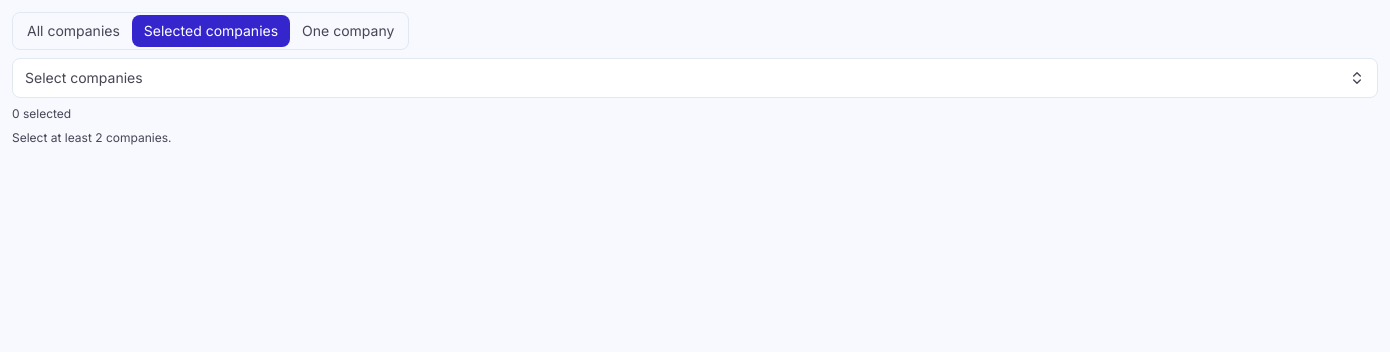
Test case: CompanyTargetSelector › multi-select updates the selected count and prevents duplicates
Click the button "Select companies" at coordinates (84, 78), box [12, 58, 1378, 98]
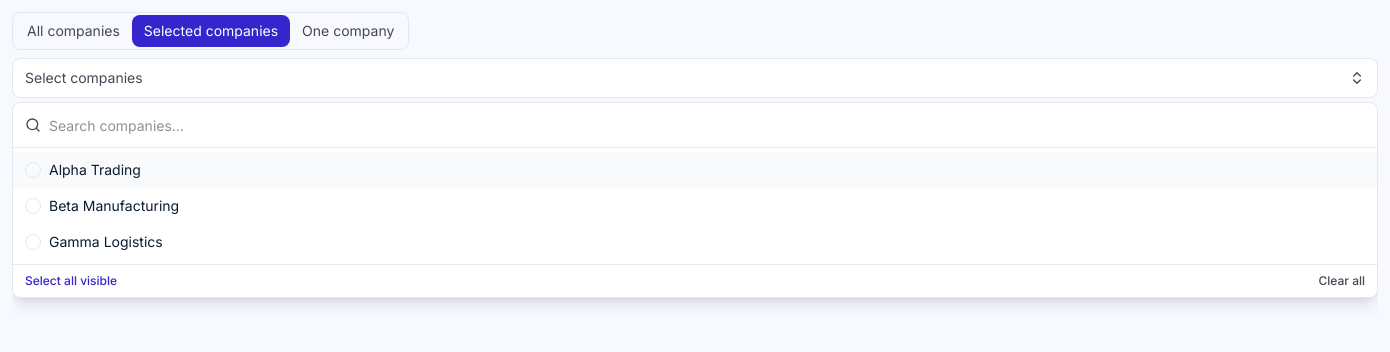
Click the option "Alpha Trading" at coordinates (95, 170), box [13, 152, 1377, 188]
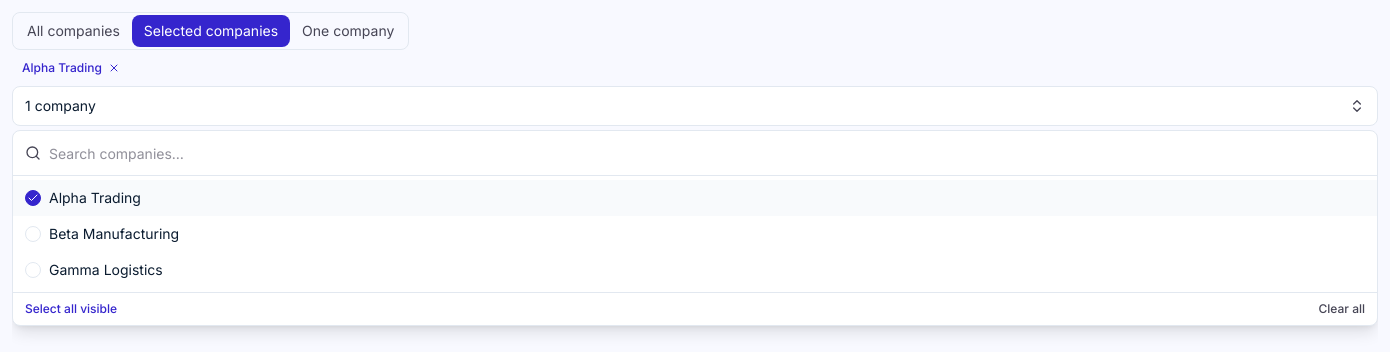
Now the text "1 selected" is shown, box [12, 134, 68, 149]
Click the option "Beta Manufacturing" at coordinates (102, 234), box [25, 225, 179, 242]
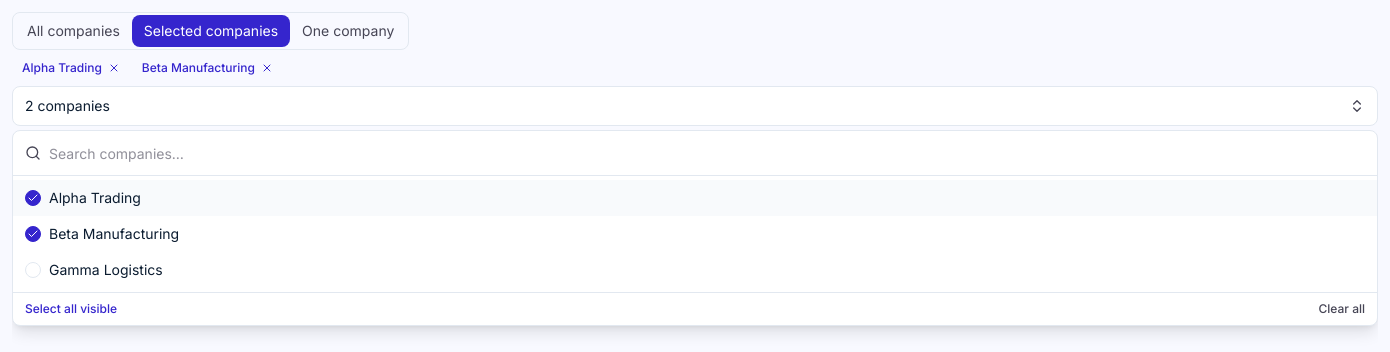
Expected: the text "2 selected" is shown, [12, 134, 71, 149]
Click the option "Alpha Trading" at coordinates (95, 198), box [13, 180, 1377, 216]
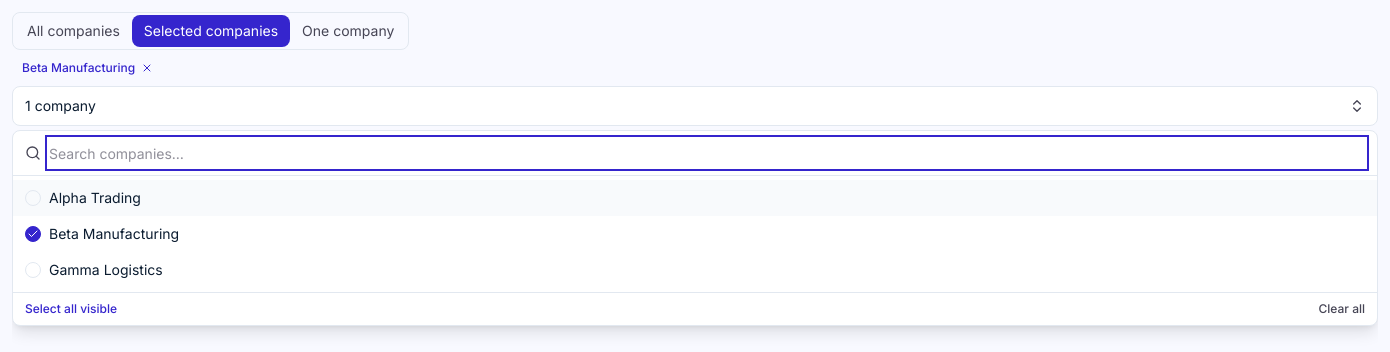
Now the text "1 selected" is shown, box [12, 134, 68, 149]
